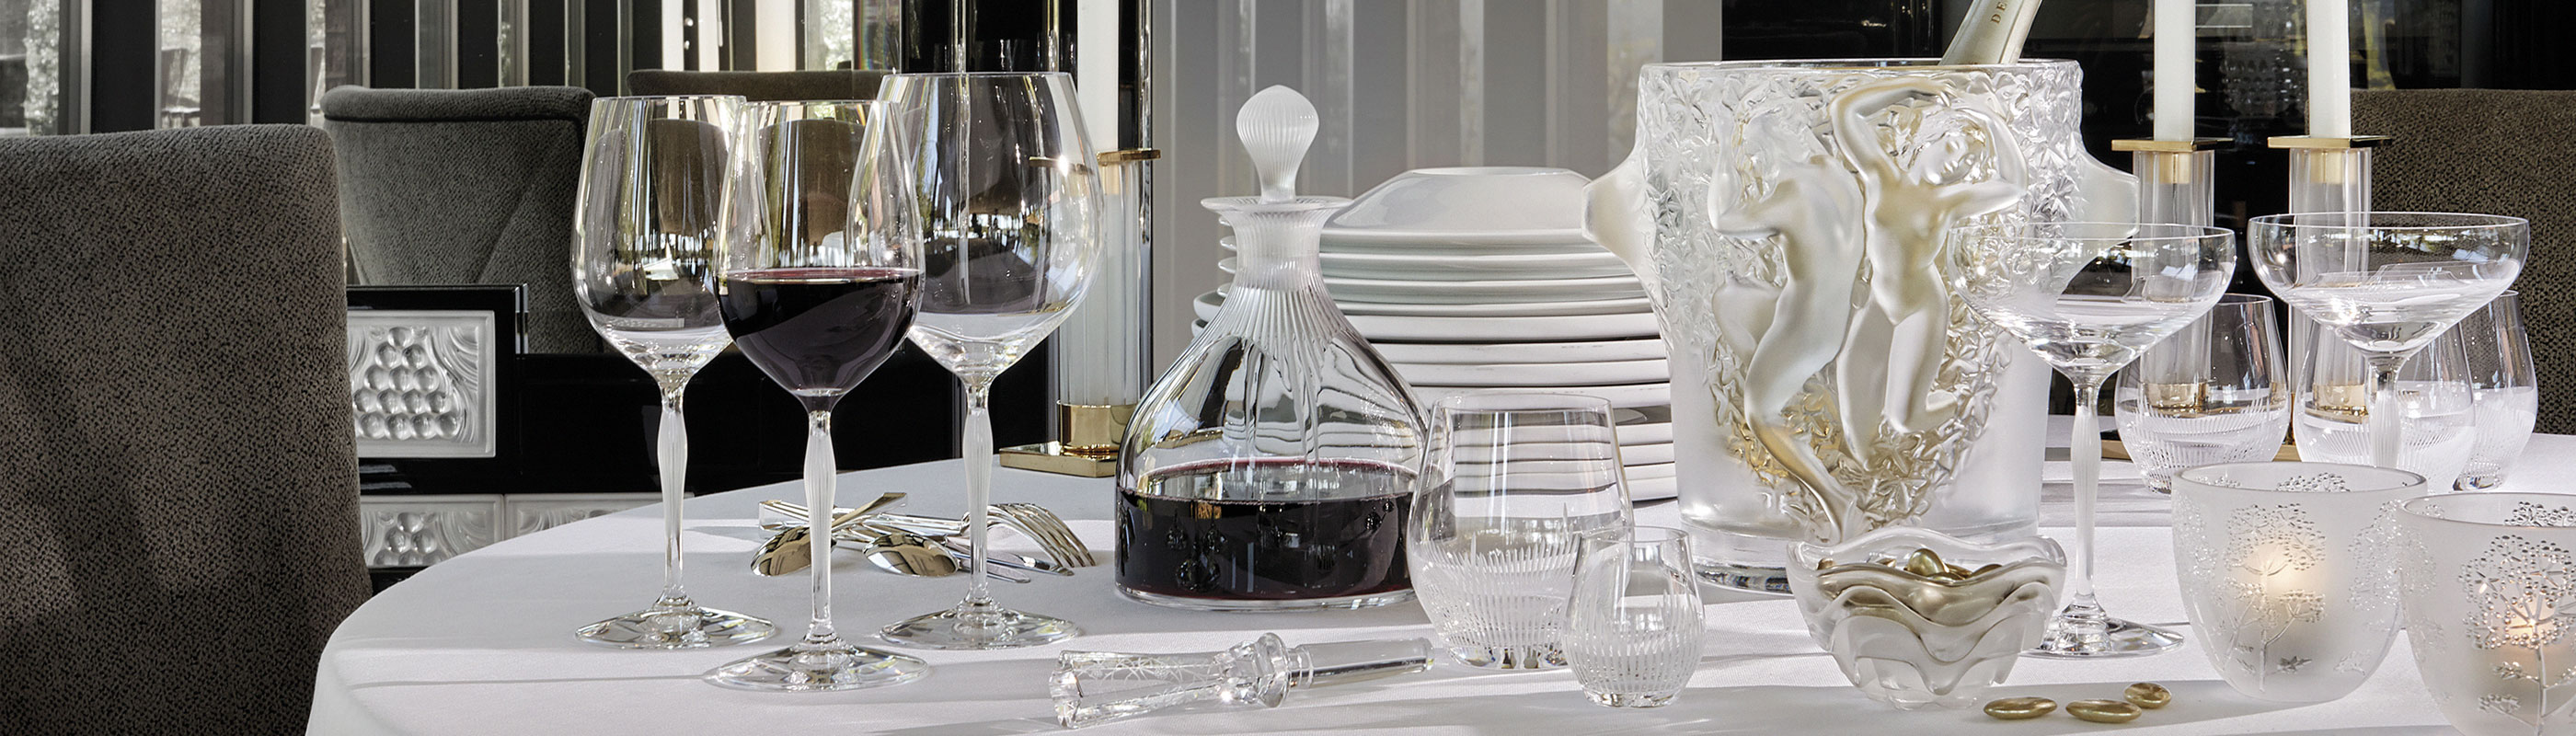Nonrec_Glass: (1580, 2, 2108, 697), (2244, 156, 2576, 728), (1112, 53, 1423, 611), (864, 36, 1097, 649), (555, 72, 785, 662), (728, 85, 940, 716), (1388, 345, 1707, 716), (1942, 182, 2173, 654), (1033, 637, 1446, 726)
